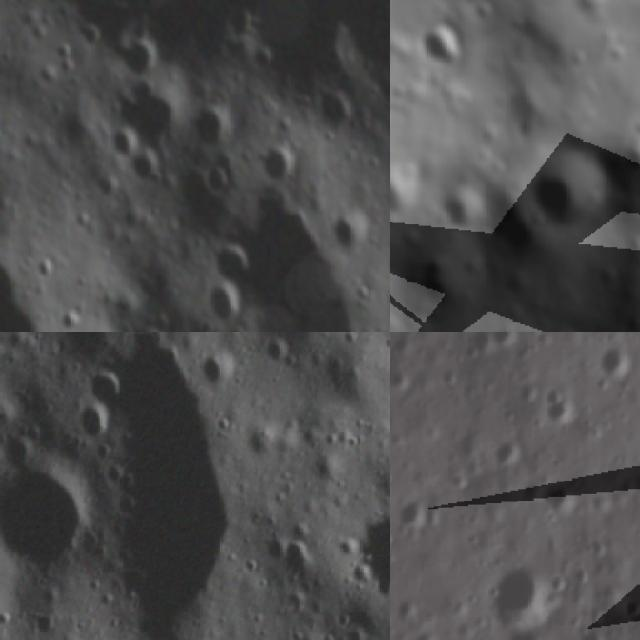crater: (514, 138, 625, 255), (0, 454, 96, 572), (310, 0, 390, 116), (108, 77, 191, 164), (494, 71, 570, 148), (406, 10, 480, 84), (427, 178, 498, 250), (488, 561, 554, 627), (390, 147, 434, 233), (352, 508, 390, 607), (106, 34, 164, 90), (202, 238, 260, 293), (324, 207, 374, 264), (197, 277, 246, 332), (314, 85, 362, 141), (190, 105, 237, 161), (278, 530, 318, 595), (254, 140, 301, 192), (394, 488, 442, 538), (588, 334, 634, 384), (544, 474, 590, 520), (80, 365, 128, 409), (72, 398, 112, 449), (540, 385, 581, 432), (196, 348, 237, 394), (488, 426, 525, 476), (238, 423, 286, 461), (196, 163, 236, 203), (125, 150, 162, 193), (390, 588, 426, 625), (310, 449, 340, 490), (617, 137, 640, 181), (489, 332, 532, 355), (489, 626, 555, 640), (390, 365, 416, 397), (378, 286, 390, 332), (411, 630, 438, 640)
